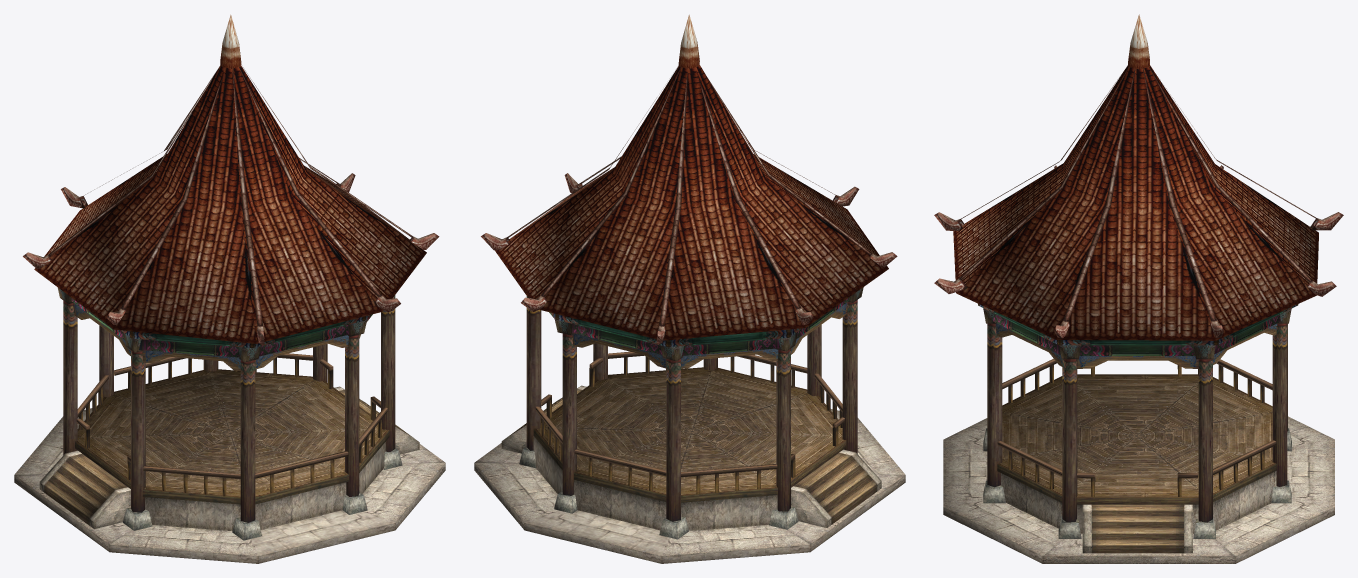
File: a1-001-house3_lod_01.fbx
The picture shows the model from 3 angles, left to right: view 1: azimuth 30°, elevation 25°; view 2: azimuth 150°, elevation 25°; view 3: azimuth 270°, elevation 25°; orthographic projection.
Visible parts, largest first — view 1: a1-001-house3; view 2: a1-001-house3; view 3: a1-001-house3.
Part boxes in pixels (x1,y1,x2,y2): a1-001-house3: (14, 14, 445, 563); a1-001-house3: (474, 14, 905, 563); a1-001-house3: (934, 14, 1343, 563).
Bounding box in the file's own units: 8.16 × 10.72 × 8.52.
